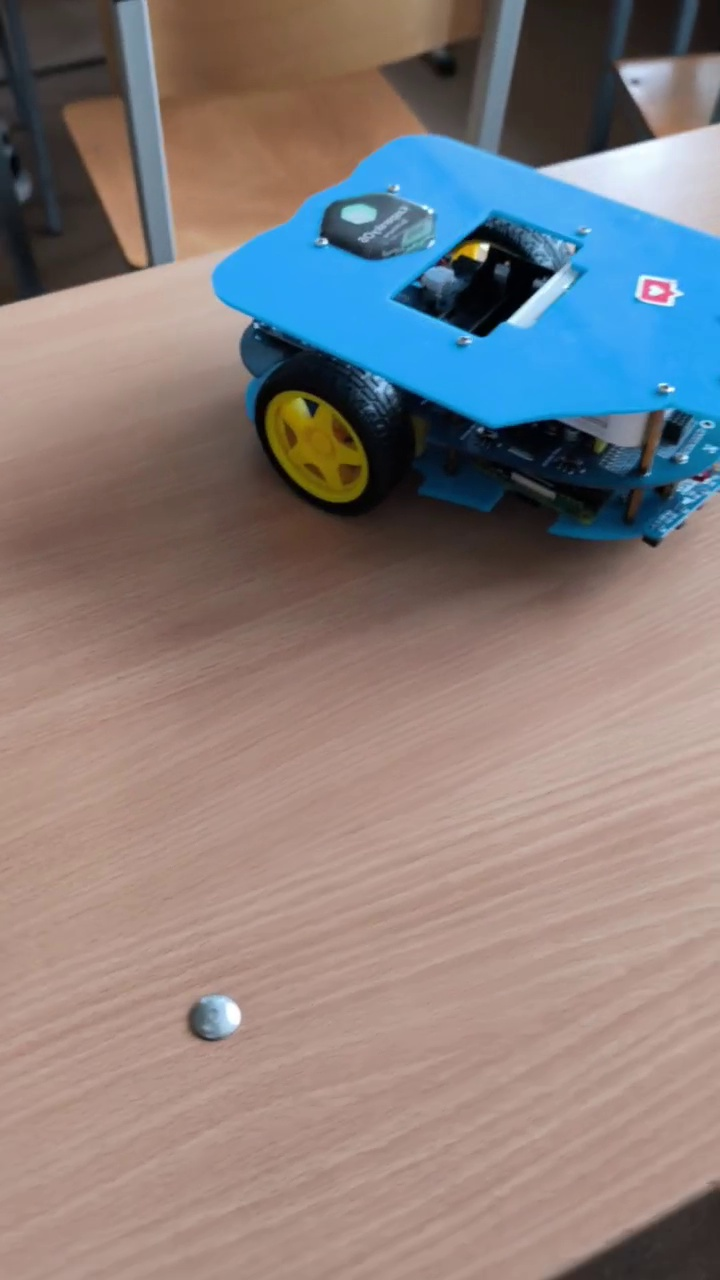robot: (210, 131, 720, 549)
